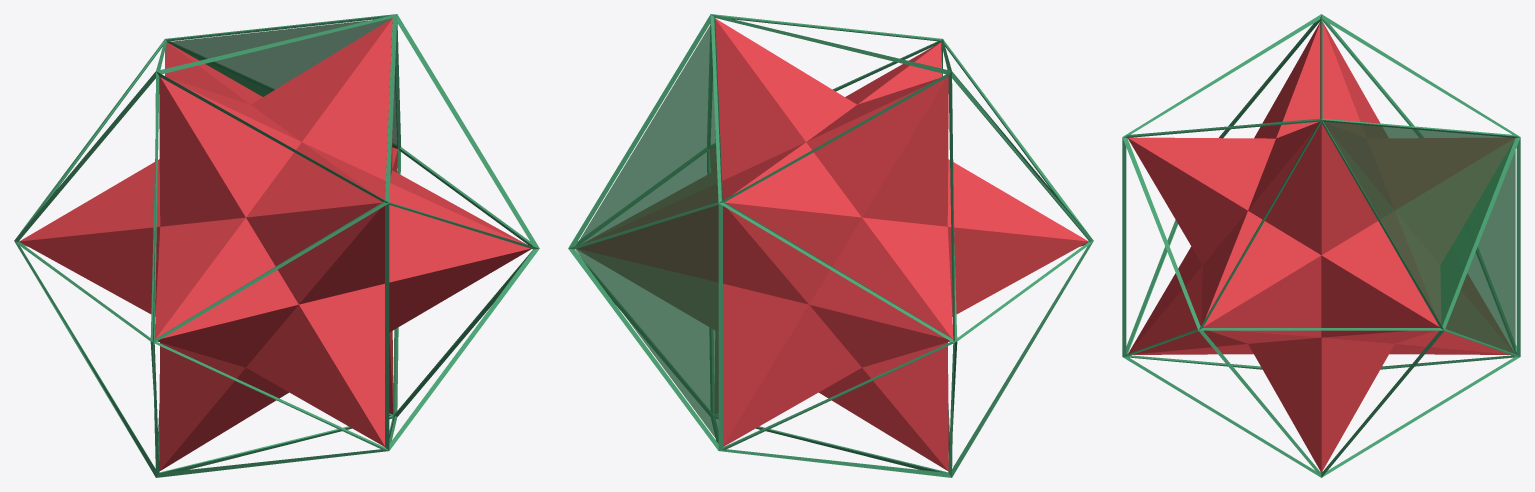
File: dualidad1.glb
3 renders of one model, left to right at view 1: azimuth 30°, elevation 25°; view 2: azimuth 150°, elevation 25°; view 3: azimuth 270°, elevation 25°, orthographic. The views are drawn at different scales.
Parts seen in each view (by area): view 1: Solid.008, Solid.002, Solid.009; view 2: Solid.008, Solid.009, Solid.002; view 3: Solid.008, Solid.009, Solid.002.
Part boxes in pixels (x1,y1,x2,y2): Solid.008: [19, 18, 531, 471]; Solid.002: [14, 14, 539, 477]; Solid.009: [167, 18, 397, 148]; Solid.008: [577, 18, 1088, 471]; Solid.009: [575, 24, 718, 441]; Solid.002: [568, 14, 1093, 477]; Solid.008: [1128, 22, 1514, 472]; Solid.009: [1324, 121, 1515, 353]; Solid.002: [1122, 14, 1520, 477].
Size of the model in its own units: 3.01 by 3.02 by 3.02.
